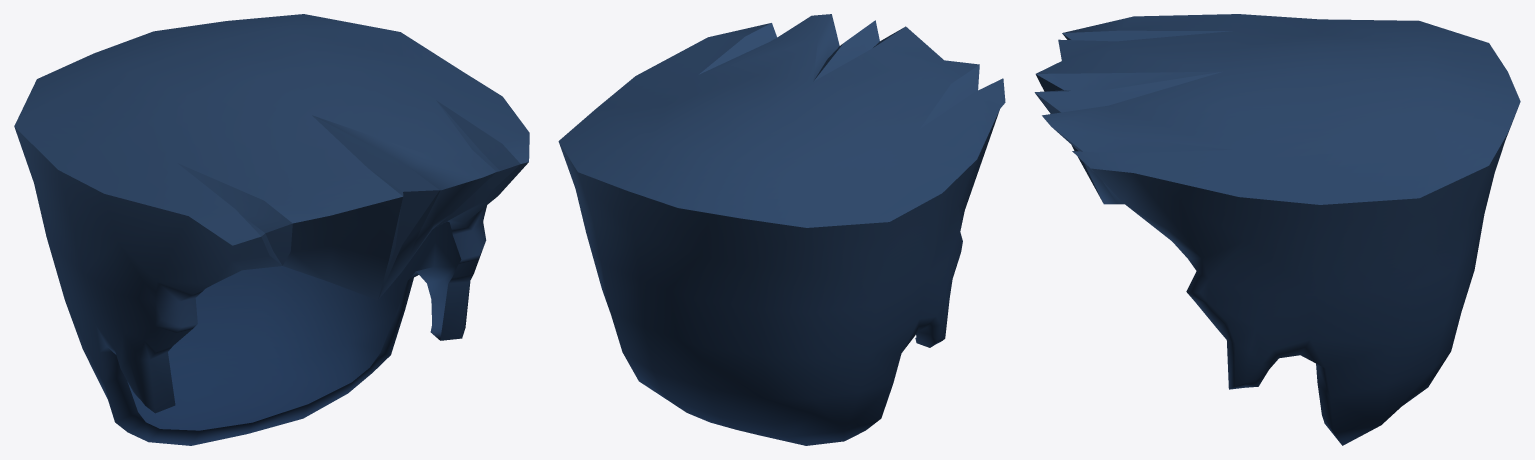
Rendered from Hair_Blue_4.fbx.
3 views of the same model, side by side, from view 1: azimuth 30°, elevation 25°; view 2: azimuth 150°, elevation 25°; view 3: azimuth 270°, elevation 25° (orthographic). The views are drawn at different scales.
Visible parts, largest first — view 1: Hair_Blue_4; view 2: Hair_Blue_4; view 3: Hair_Blue_4.
Part boxes in pixels (left/top/right/bottom): Hair_Blue_4: left=14, top=14, right=529, bottom=445; Hair_Blue_4: left=558, top=14, right=1005, bottom=445; Hair_Blue_4: left=1034, top=14, right=1520, bottom=445.
Size of the model in its own units: 62.29 by 53.97 by 68.97.
